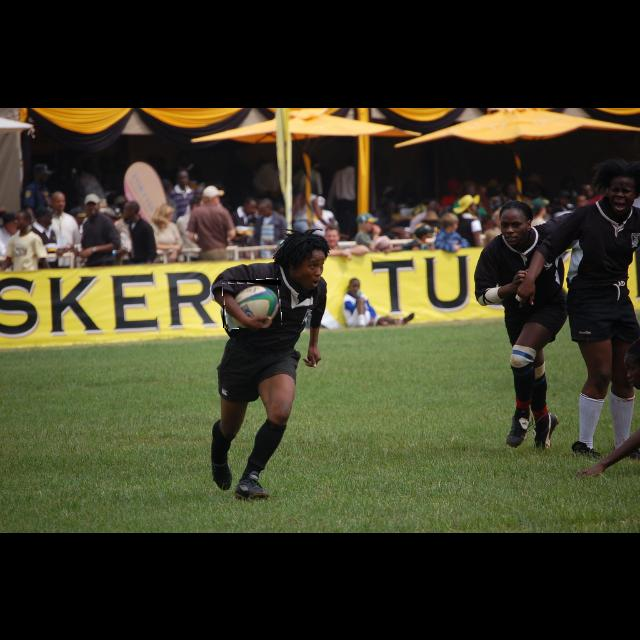Football: (223, 280, 281, 328)
